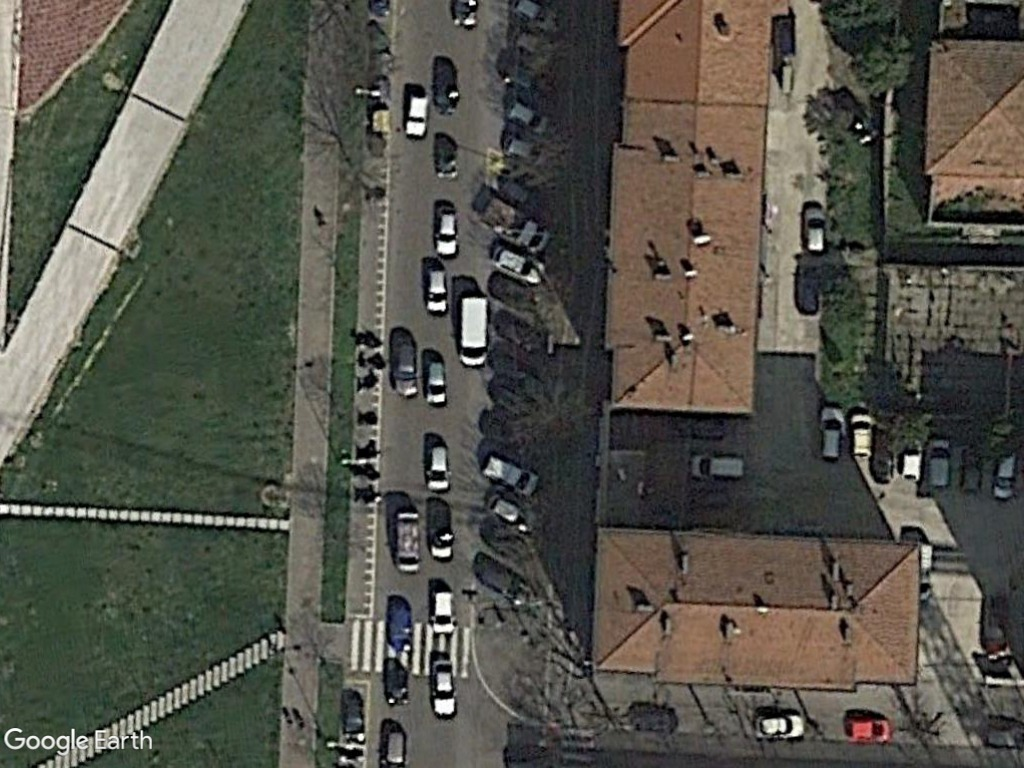car: (484, 237, 552, 289), (480, 449, 541, 502), (814, 400, 849, 472), (389, 326, 423, 400), (391, 506, 425, 576), (430, 197, 464, 264), (687, 449, 748, 485), (840, 707, 894, 747), (429, 654, 460, 721), (426, 584, 460, 641), (750, 712, 808, 745), (926, 434, 957, 495), (799, 201, 832, 258), (420, 263, 453, 319), (402, 89, 434, 144), (423, 441, 454, 496), (848, 410, 877, 467), (423, 355, 451, 411)
other: (479, 189, 552, 257)
van: (456, 290, 491, 370)
